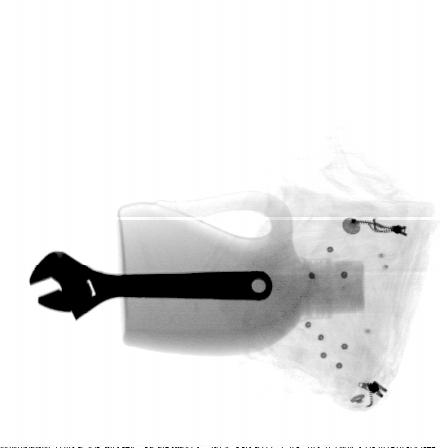Wrench: (27, 248, 274, 323)
